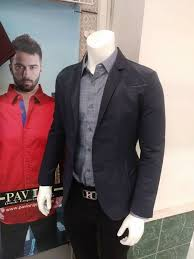F_M_suit jacket: (37, 49, 169, 230)
F_belt: (69, 180, 133, 206)
